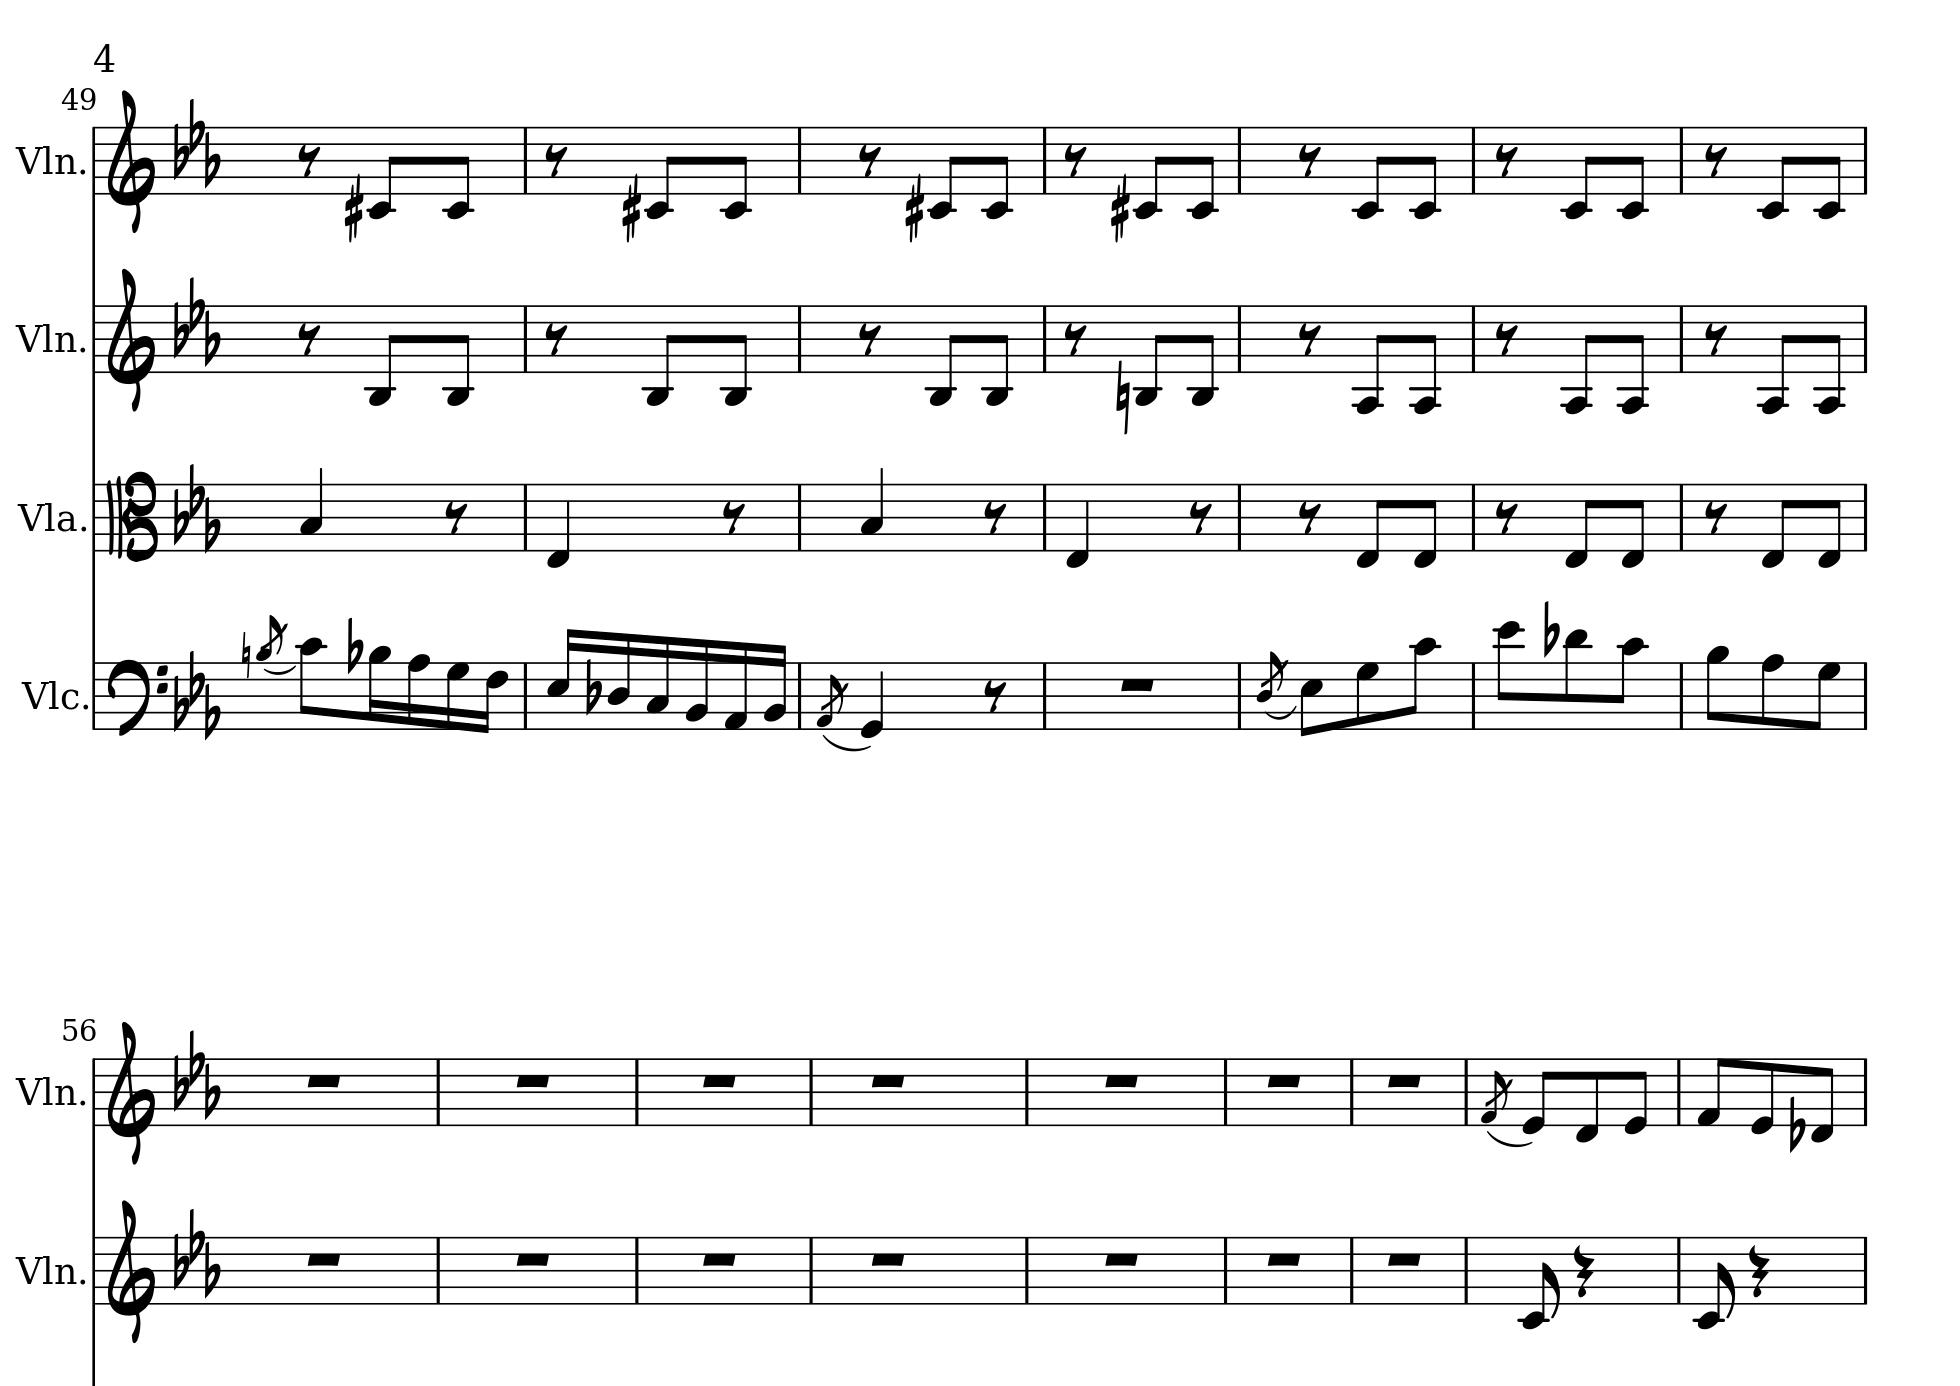16_1: (721, 639, 750, 732)
16_2: (684, 636, 709, 730), (762, 640, 787, 730)
16_3: (643, 633, 670, 730)
16_4: (606, 630, 633, 732)
16_5: (544, 625, 577, 730)
16_6: (478, 658, 510, 735)
16_7: (444, 658, 469, 733)
16_8: (405, 652, 430, 732)
16_9: (367, 643, 391, 730)
4: (91, 40, 117, 72), (60, 85, 78, 112)
4_-1: (544, 481, 571, 570), (1065, 481, 1092, 570)
4_0: (859, 660, 886, 741)
4_3: (859, 466, 885, 553), (298, 466, 324, 552)
5: (61, 1014, 79, 1042)
6: (79, 1015, 97, 1042)
8_-1: (1758, 481, 1792, 570), (1354, 481, 1387, 570), (1563, 481, 1596, 570), (1620, 481, 1648, 570), (1815, 481, 1843, 570), (1413, 481, 1440, 571), (1575, 1056, 1602, 1144), (1810, 1056, 1836, 1144)
8_-2: (1519, 1234, 1561, 1330), (1695, 1234, 1737, 1330), (1351, 124, 1389, 220), (1560, 124, 1597, 220), (1756, 124, 1794, 220), (366, 124, 402, 220), (643, 124, 679, 220), (927, 124, 961, 220), (1132, 124, 1167, 219), (1812, 124, 1845, 220), (720, 124, 751, 220), (981, 124, 1012, 220), (1186, 124, 1218, 220), (1617, 124, 1648, 220), (442, 124, 472, 220), (1410, 124, 1440, 220)
8_-3: (364, 303, 400, 406), (642, 303, 678, 406), (925, 303, 961, 406), (1134, 304, 1167, 406), (720, 304, 751, 408), (981, 304, 1012, 408), (442, 303, 472, 408), (1188, 304, 1218, 406)
8_-4: (1560, 303, 1596, 415), (1353, 303, 1387, 415), (1758, 303, 1792, 415), (1617, 303, 1648, 415), (1410, 301, 1440, 415), (1815, 303, 1845, 415)
8_0: (1521, 1056, 1554, 1135), (1749, 1056, 1777, 1135), (1623, 1056, 1650, 1135)
8_1: (1695, 1056, 1729, 1128)
8_10: (1611, 636, 1647, 732), (1404, 636, 1437, 730), (298, 636, 324, 732)
8_11: (1563, 627, 1591, 733)
8_12: (1494, 618, 1524, 732)
8_5: (1299, 660, 1324, 738)
8_7: (1809, 660, 1842, 732), (1354, 660, 1380, 730)
8_8: (1759, 652, 1785, 733)
8_9: (1704, 643, 1729, 730)
9: (79, 85, 96, 112)
A_F: (171, 1204, 220, 1297), (172, 273, 220, 366)
Acciaccature: (256, 613, 288, 730), (1479, 1059, 1513, 1128), (814, 661, 847, 730), (1257, 649, 1285, 726)
Cclef: (103, 469, 157, 562)
E_F: (171, 460, 220, 550), (172, 96, 220, 187), (172, 1027, 220, 1119), (172, 646, 219, 736)
Fclef: (103, 655, 169, 739)
Flat: (345, 613, 363, 676), (1542, 598, 1560, 658), (1788, 1095, 1806, 1155), (583, 657, 601, 715)
Gclef: (105, 1197, 157, 1342), (106, 87, 157, 234), (106, 265, 157, 412), (105, 1018, 156, 1165)
Natural: (1114, 358, 1132, 436), (240, 630, 252, 679)
Rests1: (511, 1069, 553, 1090), (697, 1069, 739, 1090), (867, 1069, 909, 1090), (1101, 1069, 1143, 1090), (1263, 1069, 1305, 1090), (1384, 1069, 1425, 1090), (303, 1246, 343, 1267), (697, 1248, 741, 1267), (511, 1248, 553, 1267), (865, 1248, 907, 1267), (1101, 1248, 1143, 1267), (1263, 1248, 1305, 1267), (1383, 1248, 1425, 1267), (1117, 673, 1158, 693), (303, 1069, 343, 1089)
Rests4: (1572, 1242, 1596, 1300), (1746, 1242, 1770, 1300)
Rests8: (1492, 142, 1521, 178), (1492, 321, 1521, 355), (981, 678, 1009, 712), (541, 142, 568, 178), (856, 142, 883, 178), (1062, 142, 1089, 178), (1296, 142, 1323, 178), (1702, 142, 1729, 178), (1062, 321, 1089, 357), (1188, 499, 1215, 535), (1702, 499, 1729, 535), (295, 142, 322, 177), (295, 321, 322, 355), (541, 321, 568, 355), (856, 321, 883, 355), (1296, 321, 1323, 355), (1702, 321, 1729, 355), (442, 499, 469, 534), (1296, 499, 1323, 534), (721, 499, 747, 535), (982, 499, 1008, 534), (1494, 499, 1519, 534)
Sharp: (619, 175, 642, 243), (903, 175, 925, 243), (343, 175, 364, 243), (1110, 177, 1131, 243)
Single_barline: (1857, 1057, 1875, 1126), (517, 483, 535, 550), (1857, 1236, 1875, 1303), (1036, 484, 1054, 550), (1344, 1056, 1360, 1125), (1458, 1056, 1474, 1125), (1344, 1234, 1360, 1303), (1458, 1234, 1474, 1303), (790, 661, 807, 729), (628, 1057, 645, 1125), (802, 1057, 819, 1125), (1218, 1057, 1234, 1125), (1671, 1057, 1687, 1125), (802, 1236, 819, 1303), (1218, 1236, 1234, 1303), (1671, 1236, 1687, 1303), (1231, 127, 1248, 193), (1465, 127, 1482, 193), (1465, 304, 1482, 370), (1674, 304, 1690, 370), (1231, 306, 1248, 372), (1036, 661, 1053, 727), (1465, 661, 1482, 727), (628, 1237, 645, 1303), (1036, 306, 1053, 370), (790, 484, 807, 549), (1231, 484, 1248, 549), (1465, 484, 1482, 549), (1858, 127, 1873, 195), (1858, 304, 1873, 372), (1858, 484, 1873, 552), (517, 661, 532, 729), (430, 1057, 445, 1125), (1020, 1057, 1035, 1125), (517, 127, 532, 193), (792, 127, 807, 193), (1038, 127, 1053, 193), (1674, 127, 1689, 193), (517, 304, 532, 370), (792, 304, 807, 370), (87, 661, 102, 727), (1233, 661, 1248, 727), (1858, 661, 1873, 727), (1020, 1237, 1035, 1303), (1674, 484, 1689, 549), (1674, 661, 1689, 726), (430, 1237, 445, 1302), (87, 304, 100, 373), (87, 1236, 100, 1305), (87, 483, 100, 550), (87, 1057, 100, 1125), (88, 126, 100, 193)
Slur: (255, 648, 292, 688), (820, 733, 871, 751), (1486, 1128, 1533, 1147), (259, 661, 295, 676), (1263, 706, 1299, 721)
Vla: (16, 495, 78, 541)
Vlc: (21, 673, 79, 714)
Vln: (15, 1249, 76, 1291), (16, 316, 76, 358), (16, 1069, 76, 1111), (16, 139, 76, 180)
